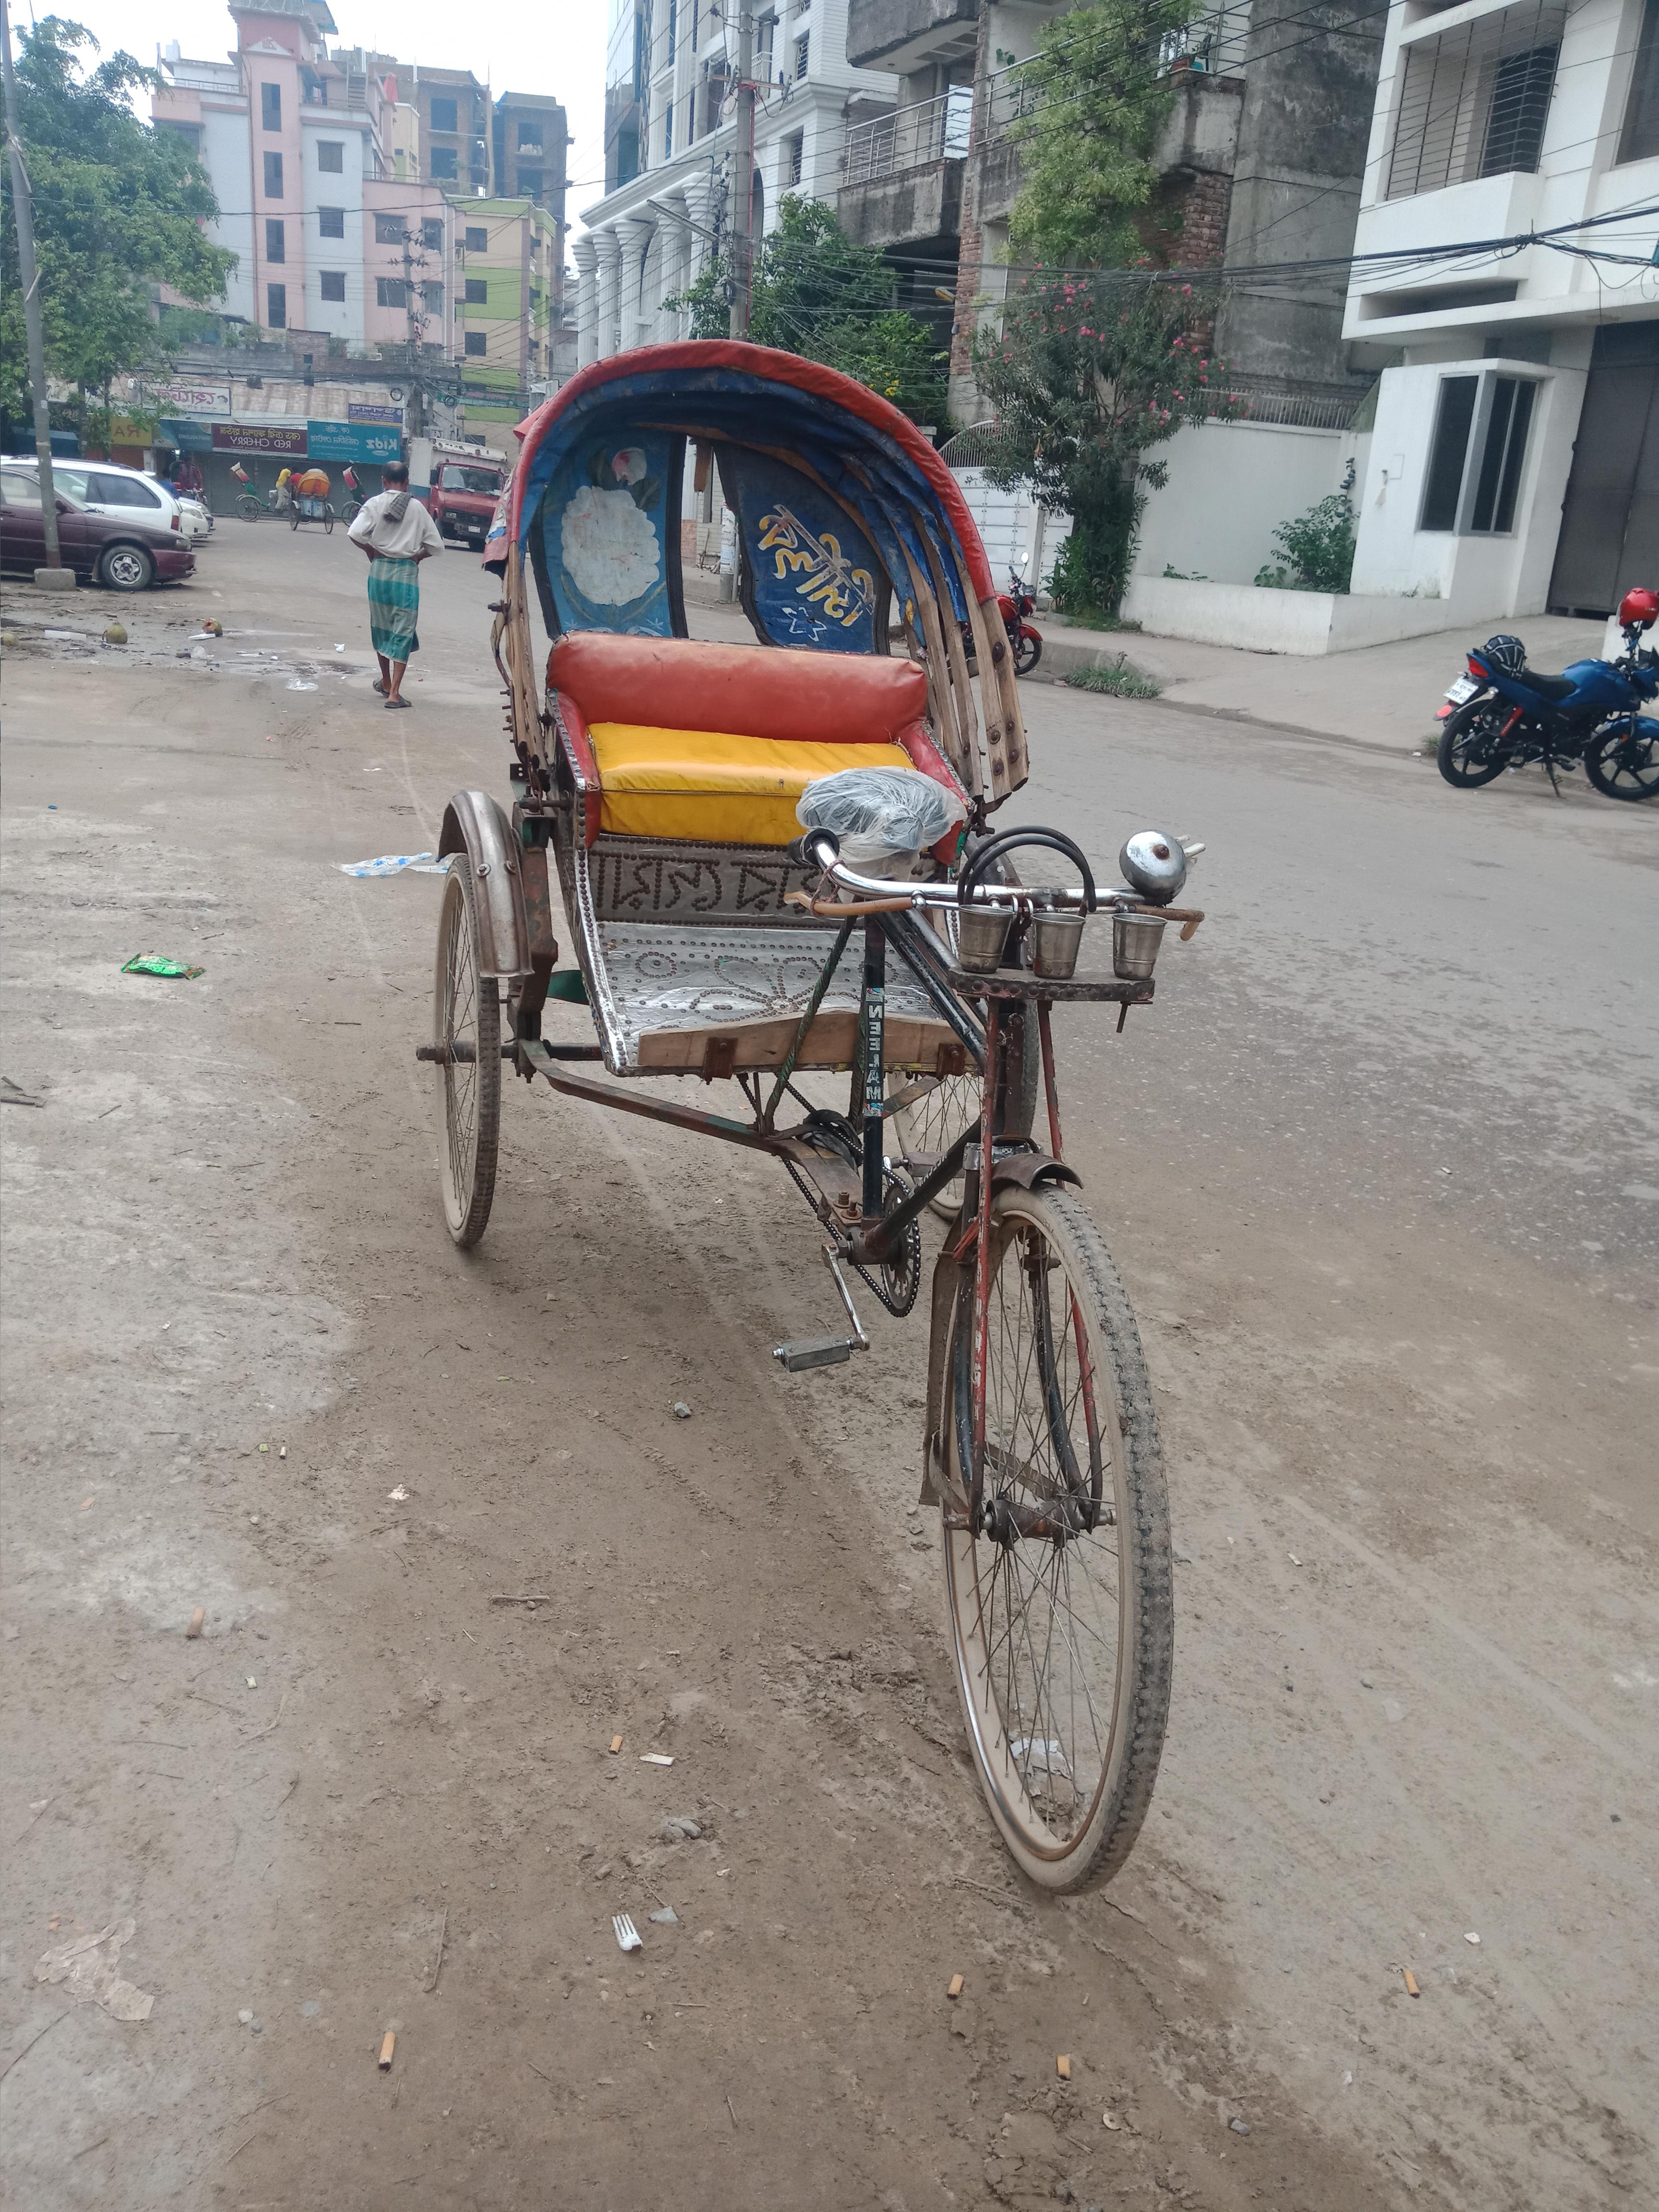Rickshaw: (432, 279, 1199, 1733)
